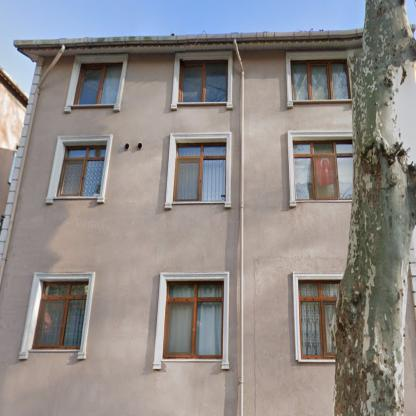window: (164, 282, 223, 356), (33, 283, 88, 348), (294, 141, 352, 200), (299, 282, 341, 359), (175, 145, 226, 200), (60, 147, 107, 196), (292, 62, 349, 100), (77, 64, 121, 105), (181, 63, 227, 102)
